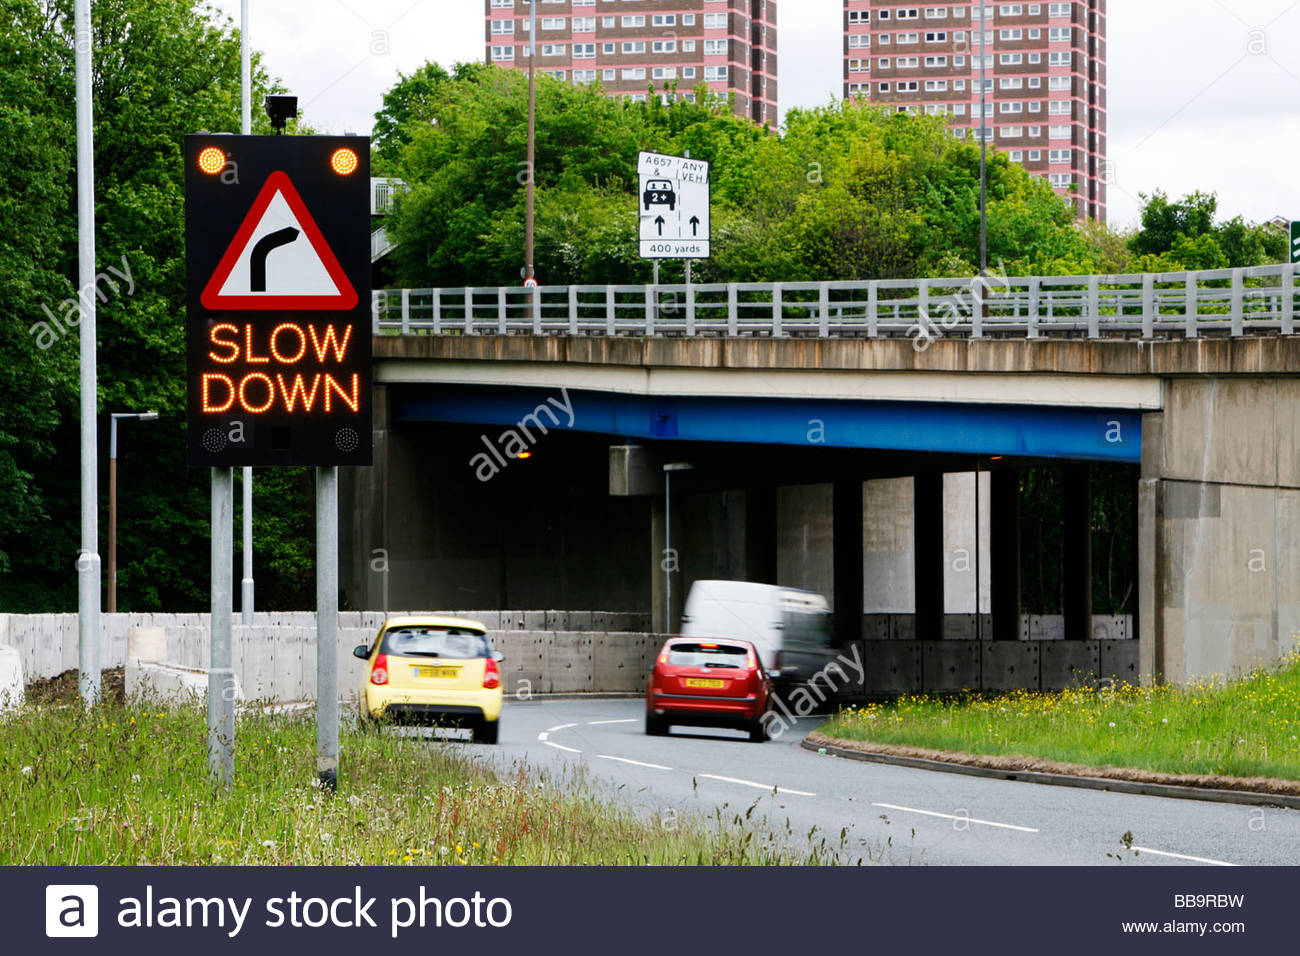Bend_to_right: (188, 167, 364, 315)
car: (347, 611, 507, 752), (640, 634, 781, 748)
